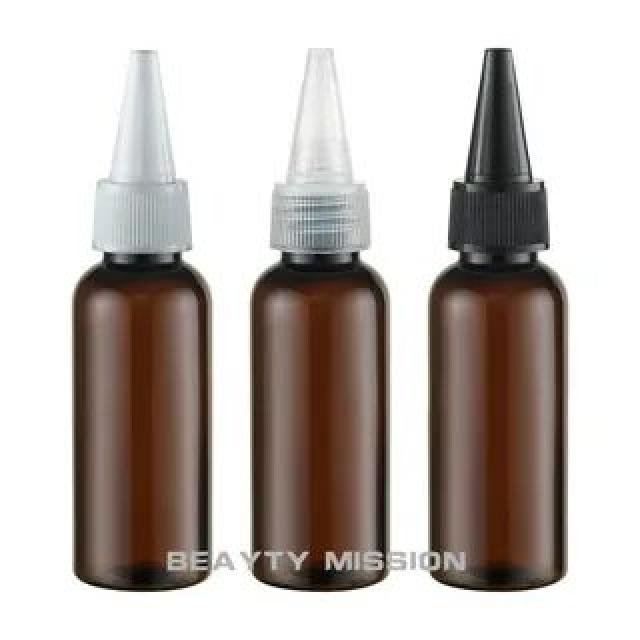brown: (250, 252, 390, 593), (427, 248, 565, 590), (75, 253, 213, 592)
